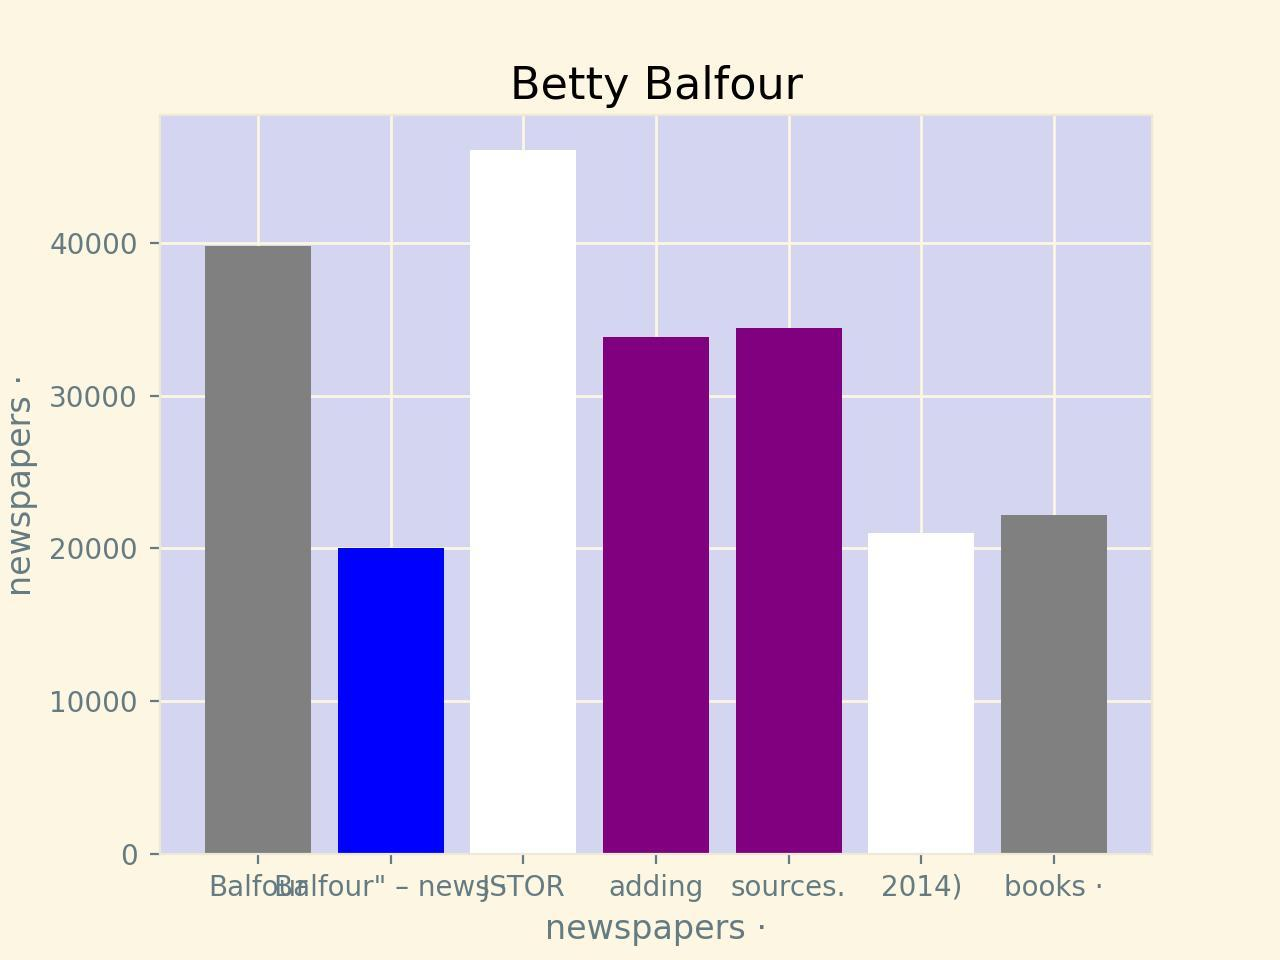axis: (5, 232, 138, 871)
rectangle: (471, 150, 577, 854), (205, 246, 311, 854), (736, 328, 842, 854), (603, 338, 709, 854), (1001, 514, 1107, 854), (868, 533, 974, 854), (338, 548, 444, 854)
